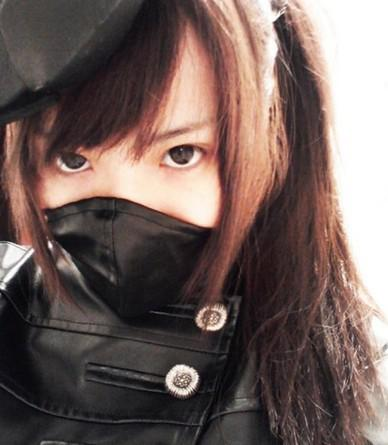OK: (35, 100, 240, 325)
